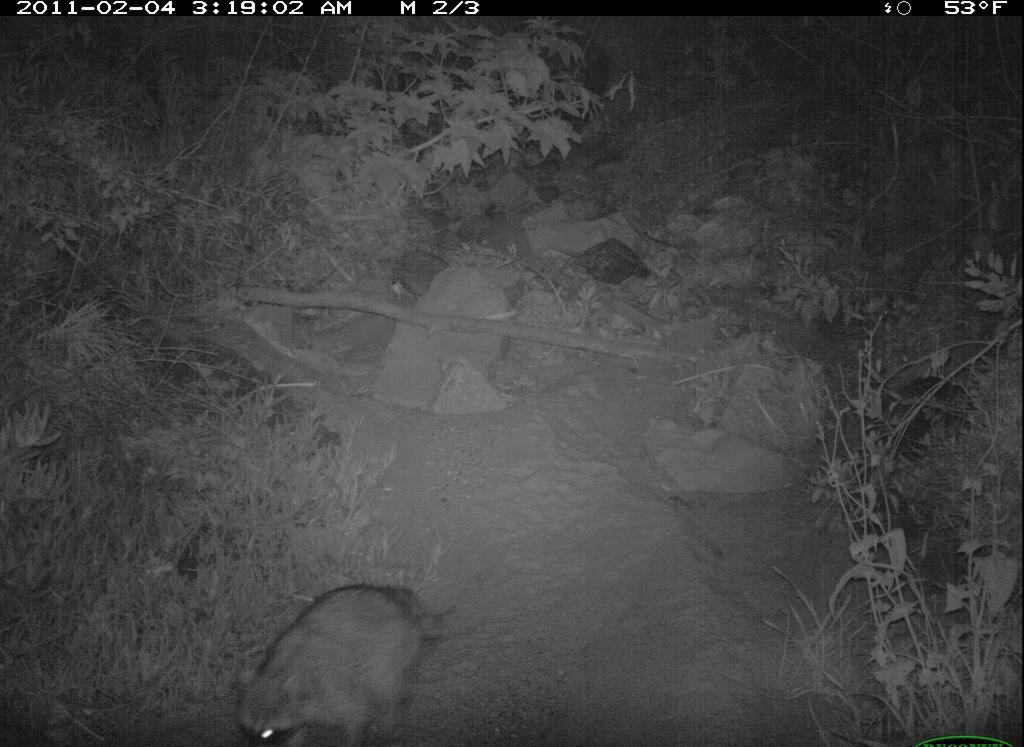raccoon: (227, 577, 465, 747)
